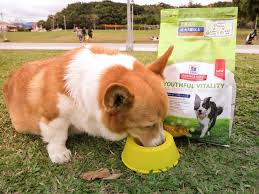dog: (101, 62, 186, 154)
